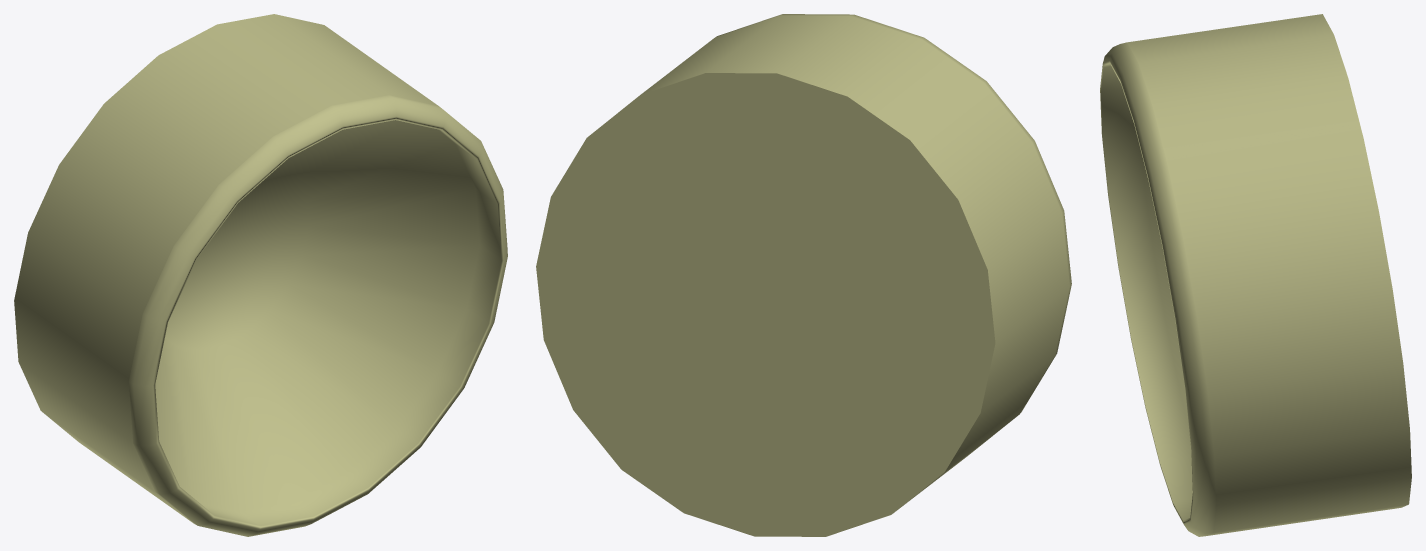
File: TR1_8shapes_Round_Classic_Metal.001 2.glb
3 views of the same model, side by side, from view 1: azimuth 30°, elevation 25°; view 2: azimuth 150°, elevation 25°; view 3: azimuth 270°, elevation 25° (orthographic). The views are drawn at different scales.
Parts seen in each view (by area): view 1: TR1_8shapes_Round_Classic_Metal.001; view 2: TR1_8shapes_Round_Classic_Metal.001; view 3: TR1_8shapes_Round_Classic_Metal.001.
Boxes of the visible parts, x1=… form: TR1_8shapes_Round_Classic_Metal.001: x1=14, y1=14, x2=507, y2=536; TR1_8shapes_Round_Classic_Metal.001: x1=536, y1=14, x2=1071, y2=536; TR1_8shapes_Round_Classic_Metal.001: x1=1100, y1=14, x2=1411, y2=536.
Bounding box in the file's own units: 0.587 × 0.5853 × 0.3502.
